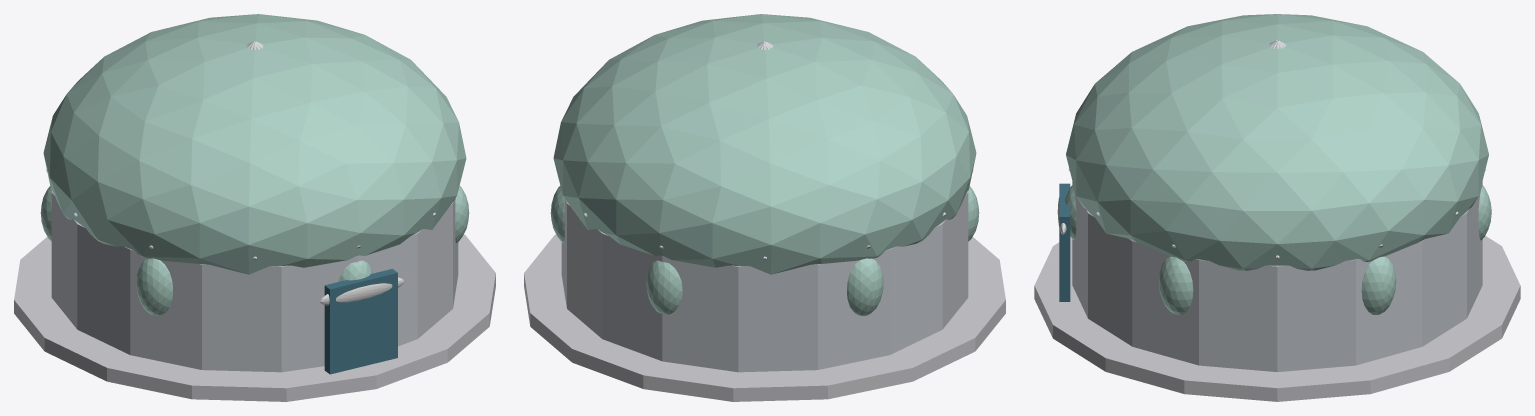
File: hexagon-dome.glb
3 views of the same model, side by side, from view 1: azimuth 30°, elevation 25°; view 2: azimuth 150°, elevation 25°; view 3: azimuth 270°, elevation 25° (orthographic).
Parts seen in each view (by area): view 1: DomeShell_3, Building_2, Base_1, Entrance_94, Pavilion_20, PortalRing_95, Pavilion_8, Pavilion_5, Pavilion_17; view 2: DomeShell_3, Building_2, Base_1, Pavilion_17, Pavilion_14, Pavilion_11, Pavilion_20; view 3: DomeShell_3, Building_2, Base_1, Pavilion_8, Pavilion_11, Entrance_94, Pavilion_14.
Part boxes in pixels (box(x1,y1,x2,y2)): DomeShell_3: box(43, 14, 466, 274); Building_2: box(51, 191, 458, 372); Base_1: box(14, 234, 495, 401); Entrance_94: box(324, 269, 397, 374); Pavilion_20: box(136, 258, 172, 315); PortalRing_95: box(319, 277, 404, 305); Pavilion_8: box(455, 186, 469, 243); Pavilion_5: box(338, 260, 372, 281); Pavilion_17: box(40, 186, 51, 241); DomeShell_3: box(553, 14, 976, 274); Building_2: box(561, 191, 968, 372); Base_1: box(524, 234, 1005, 401); Pavilion_17: box(847, 258, 883, 315); Pavilion_14: box(646, 260, 682, 314); Pavilion_11: box(550, 186, 564, 243); Pavilion_20: box(968, 186, 979, 241); DomeShell_3: box(1066, 14, 1488, 270); Building_2: box(1072, 181, 1482, 371); Base_1: box(1034, 236, 1520, 401); Pavilion_8: box(1158, 256, 1193, 314); Pavilion_11: box(1361, 256, 1396, 314); Entrance_94: box(1059, 183, 1070, 301); Pavilion_14: box(1478, 185, 1491, 240).
Size of the model in its own units: 9.6 by 5.64 by 9.6.
